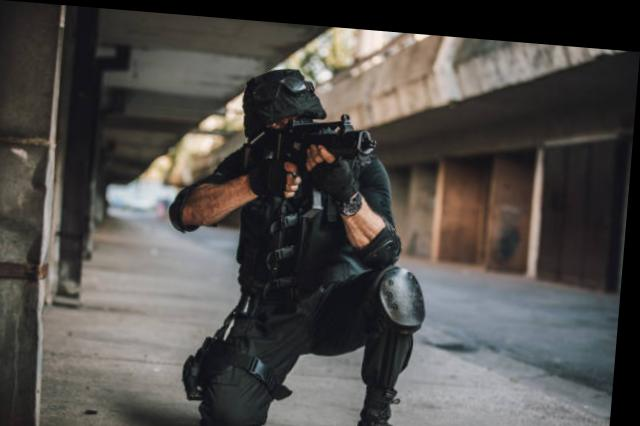other: (161, 56, 453, 424)
